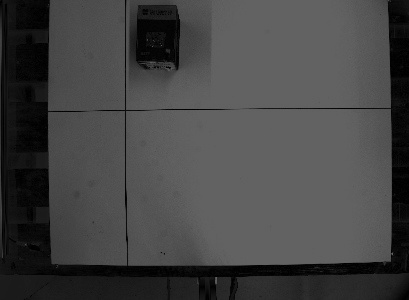b4: (133, 1, 180, 70)
